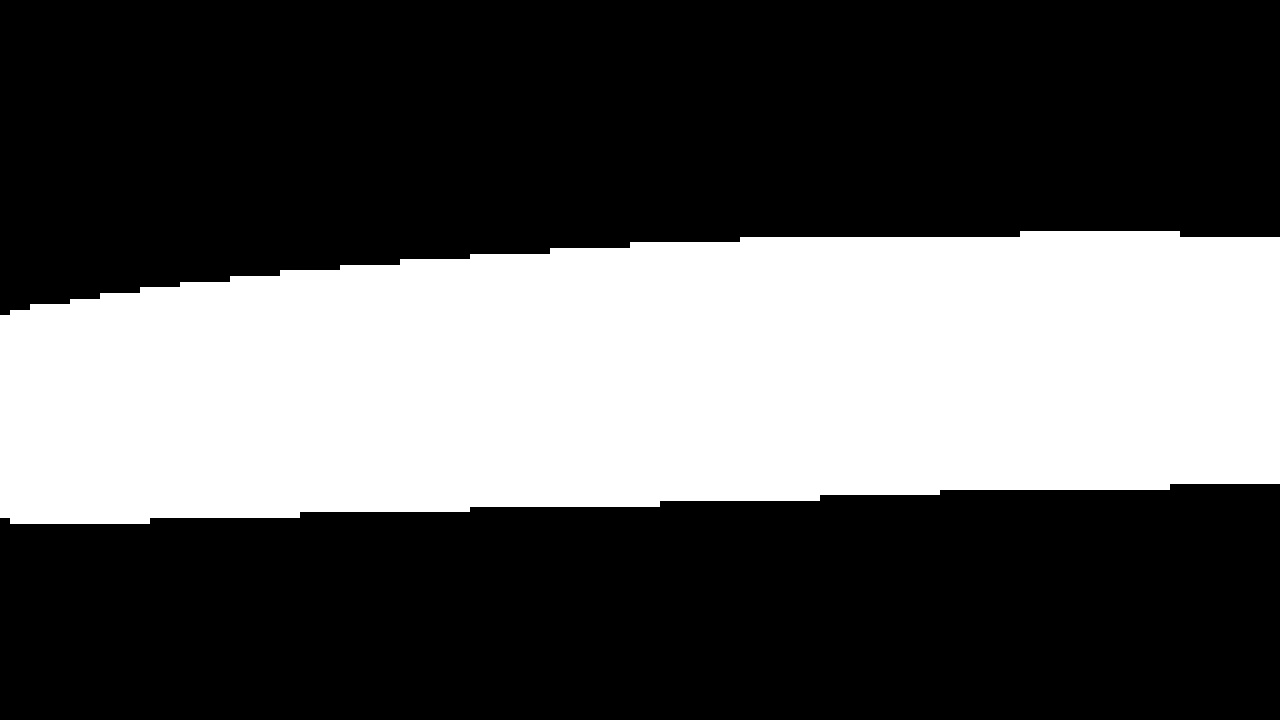Turbine: (3, 206, 1274, 539)
